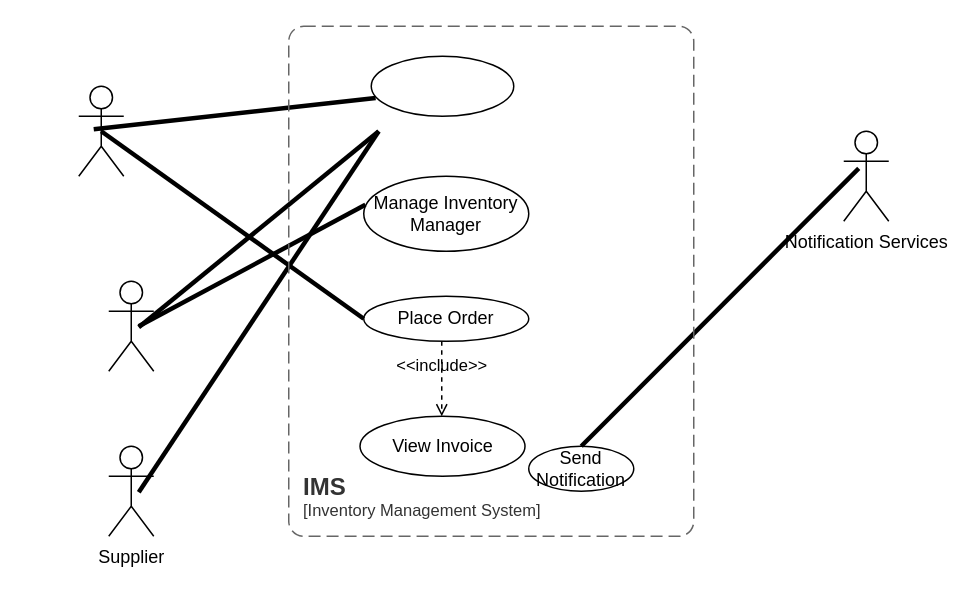
Image size: 974x594. Some labels were removed from this diagram. The shapes that lost their labels are listed below. From the top down, each one's centre as x and y in pixels, then its label:
At point (442, 85): "Login/Logout".
At point (100, 130): "Inventory Manager".
At point (130, 325): "Admin".
